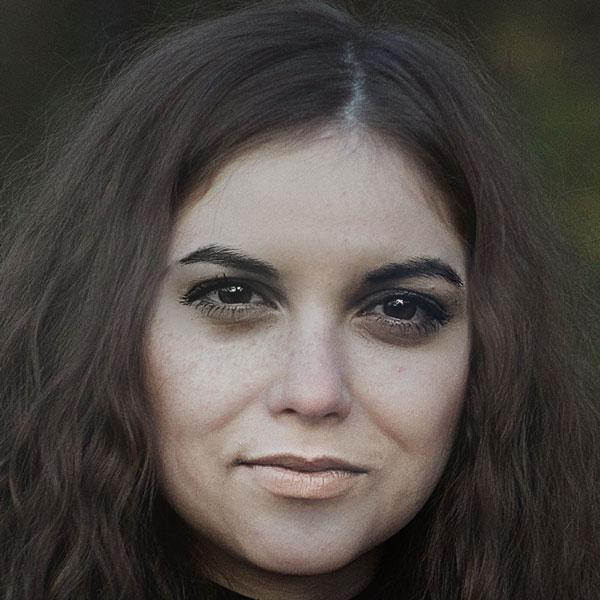Eyes: (176, 263, 289, 332), (343, 274, 451, 344)
